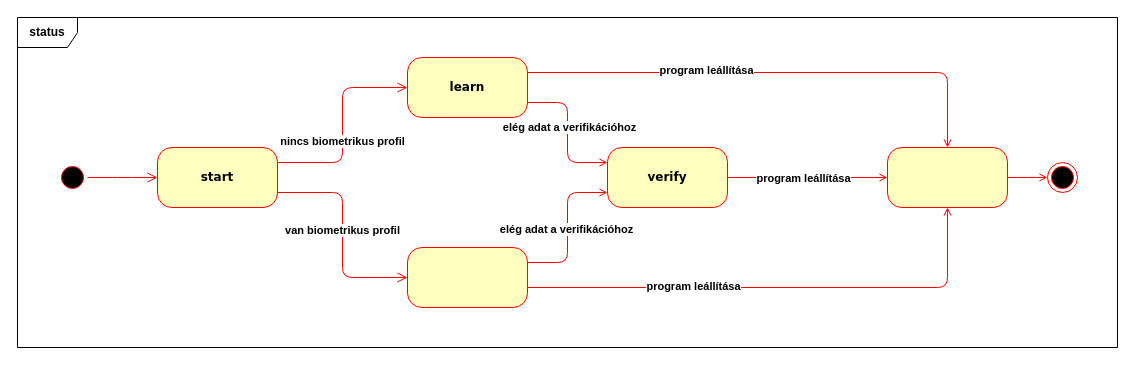
The diagram is 1135 pixels wide and 365 high, and some of its shapes have lost their labels. The shapes that lost their labels are listed below. From the top down, each one's centre as x and y in pixels, then its label:
At point (947, 177): "end".
At point (467, 277): "transition".
